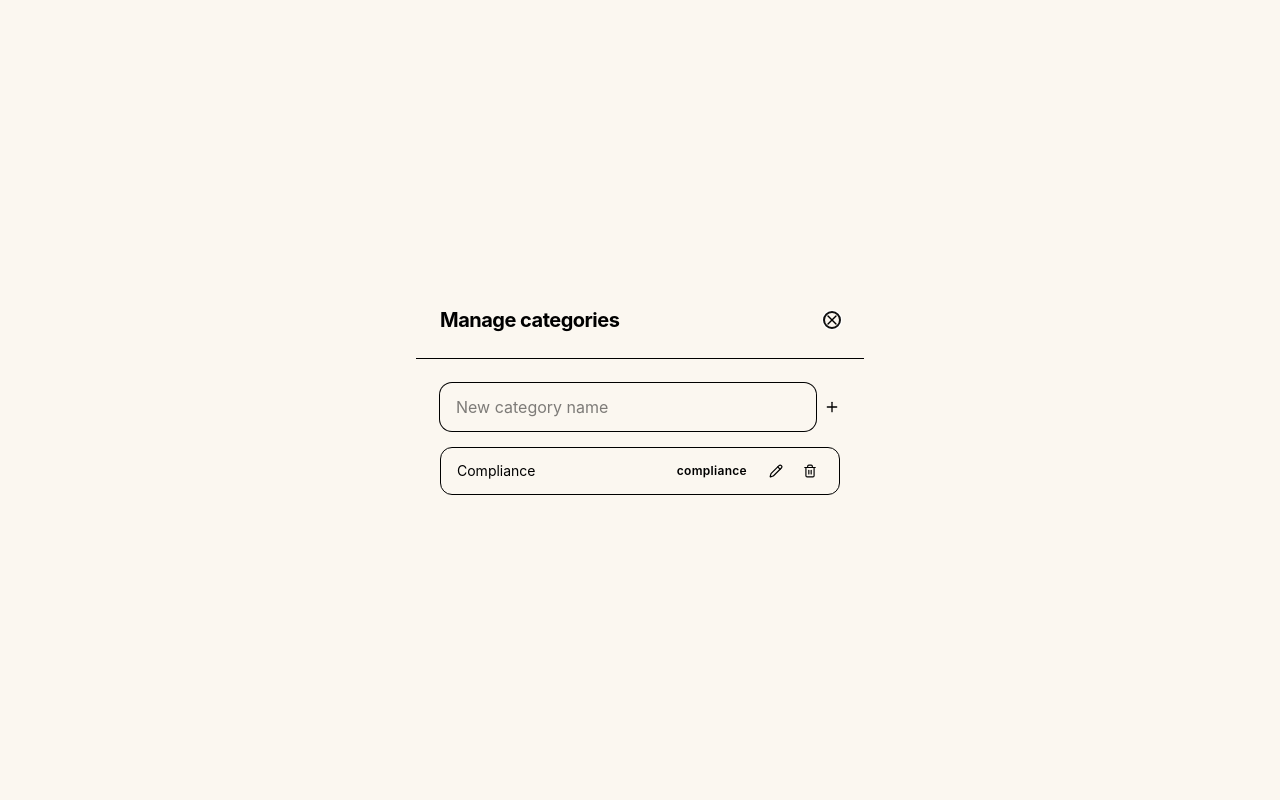
CategoriesDialog › deletes a category
Check: the text "Compliance" is shown, box [457,462,536,478]
Click the button named "Delete Compliance" at (810, 470), box [797,458,823,484]
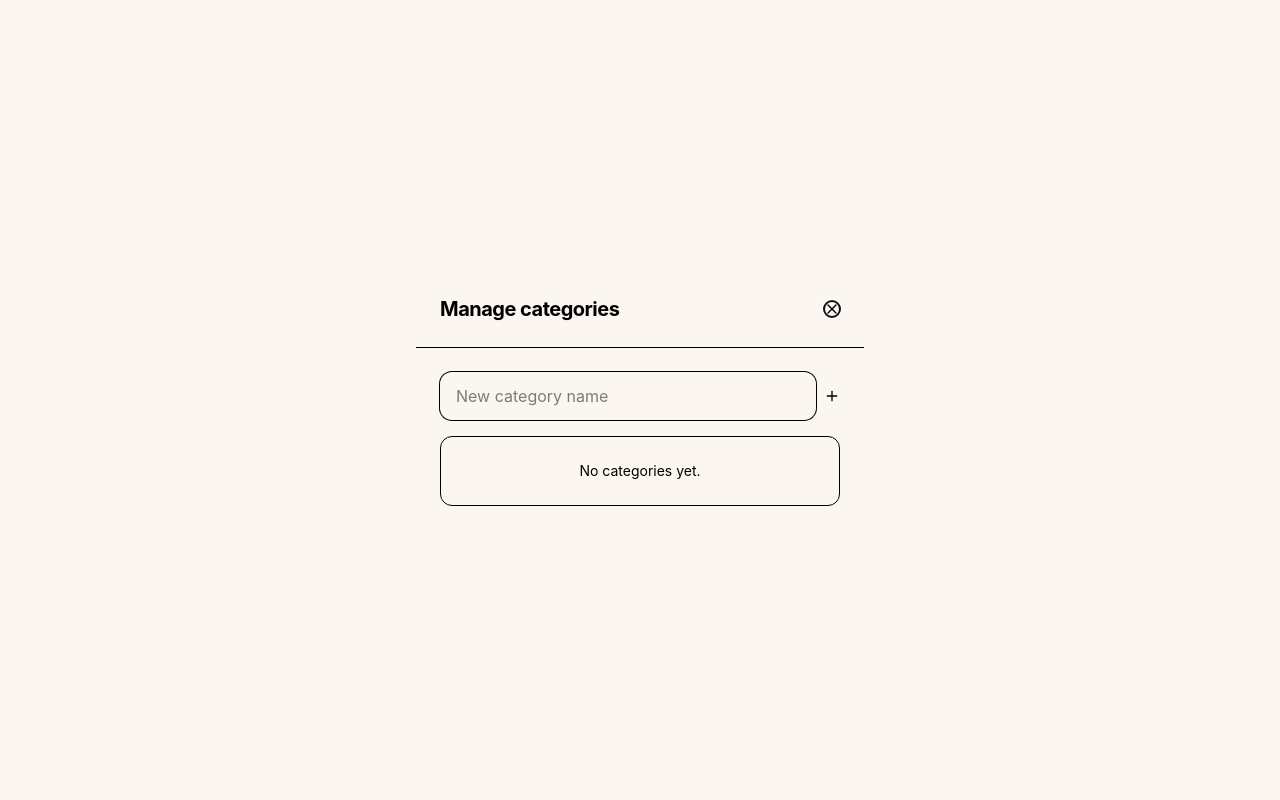
Check: the list item "No categories yet." is shown, box [579,462,700,478]
